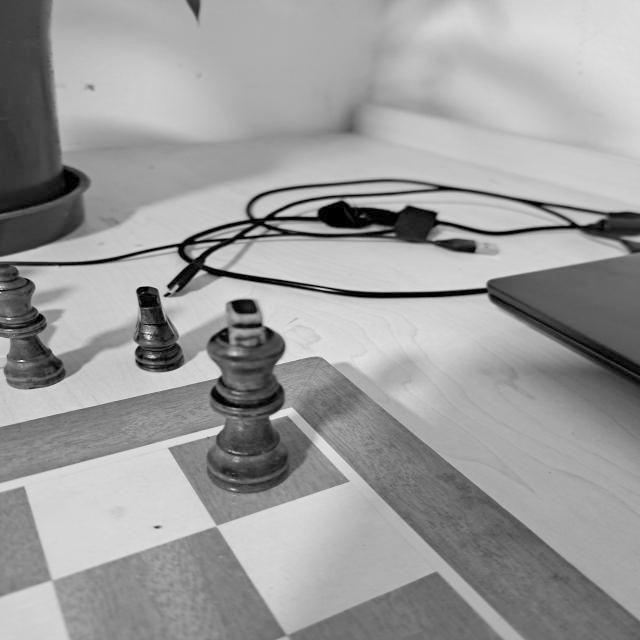chess-table-corners: (231, 386, 340, 448)
